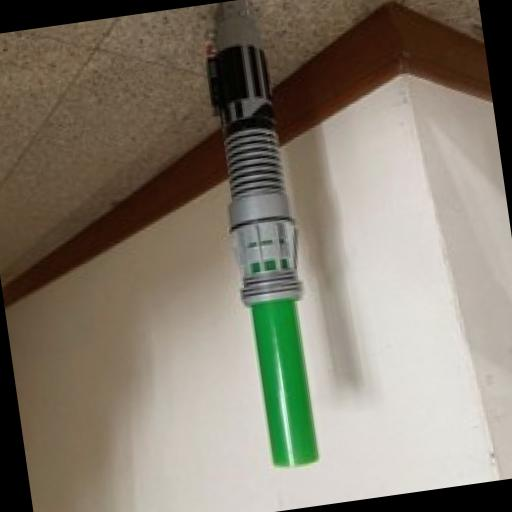lightsaber: (200, 0, 329, 469)
